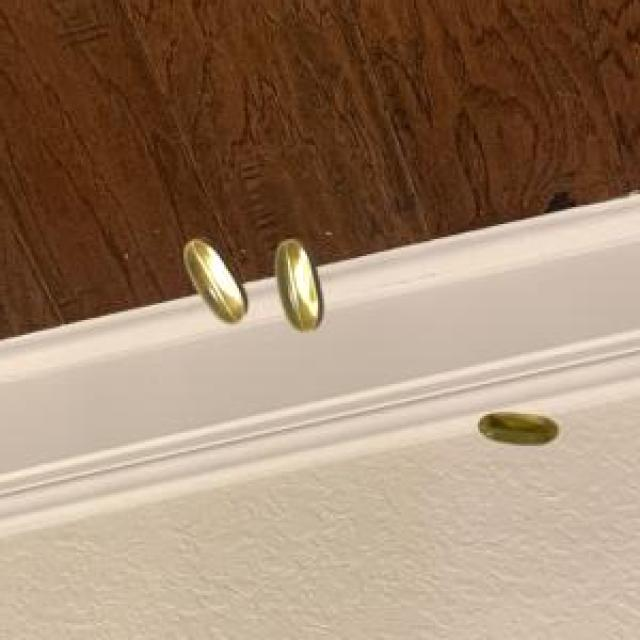Fish_Oil: (182, 227, 251, 337), (269, 235, 328, 342), (471, 405, 567, 460)
